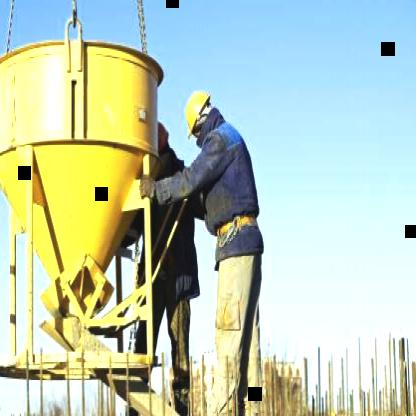helmet: (181, 88, 221, 144), (150, 122, 173, 167)
